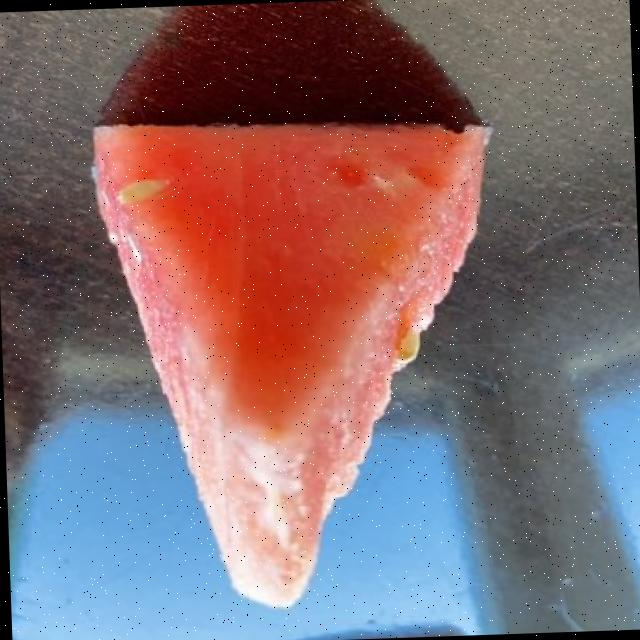watermelon-fresh: (97, 123, 481, 602)
